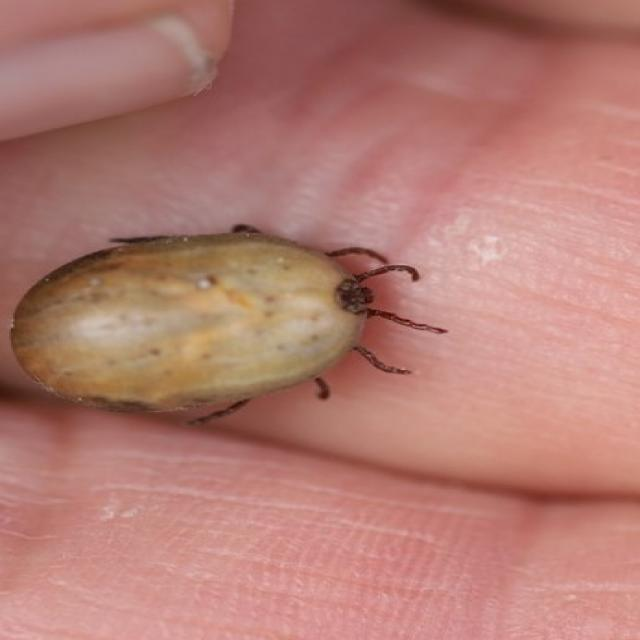Dermacentor Reticulatus-F-Fed: (11, 224, 450, 425)
